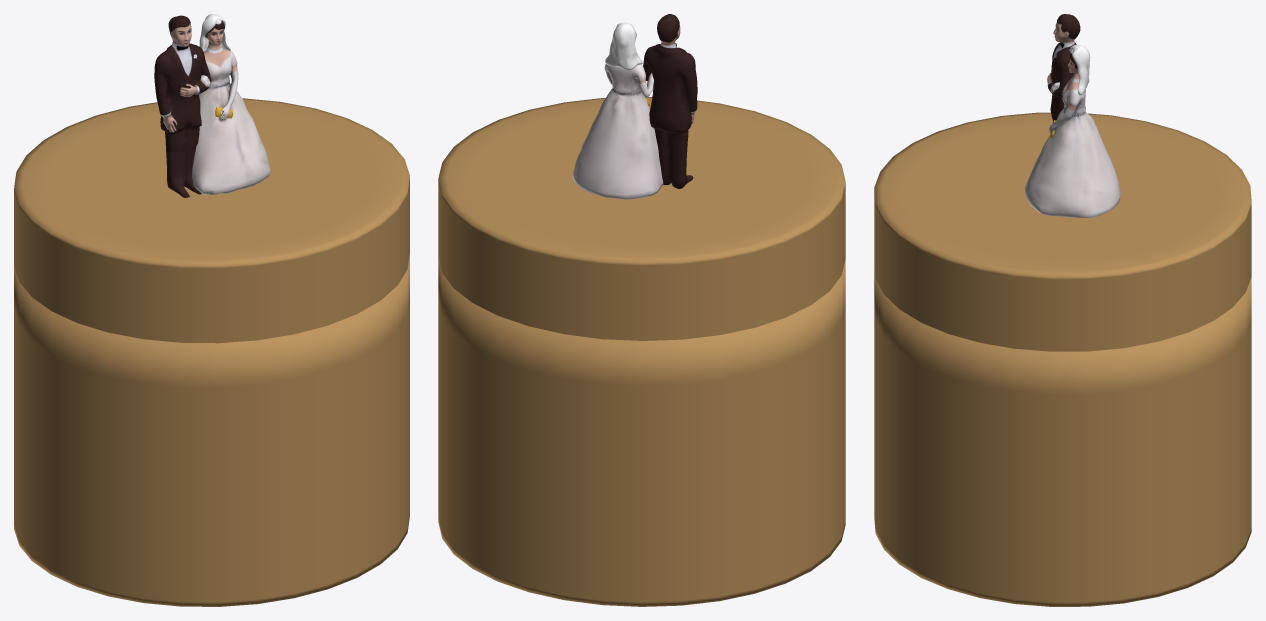
The model's file is 1-tier-caramel-none-bridegroom.glb.
The picture shows the model from 3 angles, left to right: view 1: azimuth 30°, elevation 25°; view 2: azimuth 150°, elevation 25°; view 3: azimuth 270°, elevation 25°; orthographic projection. The views are drawn at different scales.
Visible parts, largest first — view 1: Cylinder.019, 13501_Cake_Topper_Bride_Groom_v1_L1.004; view 2: Cylinder.019, 13501_Cake_Topper_Bride_Groom_v1_L1.004; view 3: Cylinder.019, 13501_Cake_Topper_Bride_Groom_v1_L1.004.
Boxes of the visible parts, bbox=[...] form: Cylinder.019: bbox=[14, 98, 409, 606]; 13501_Cake_Topper_Bride_Groom_v1_L1.004: bbox=[154, 14, 270, 197]; Cylinder.019: bbox=[438, 97, 845, 606]; 13501_Cake_Topper_Bride_Groom_v1_L1.004: bbox=[572, 14, 697, 199]; Cylinder.019: bbox=[874, 112, 1251, 606]; 13501_Cake_Topper_Bride_Groom_v1_L1.004: bbox=[1024, 14, 1120, 217].
Size of the model in its own units: 2.63 by 3.7 by 2.55.
2 materials, 1 textured.
